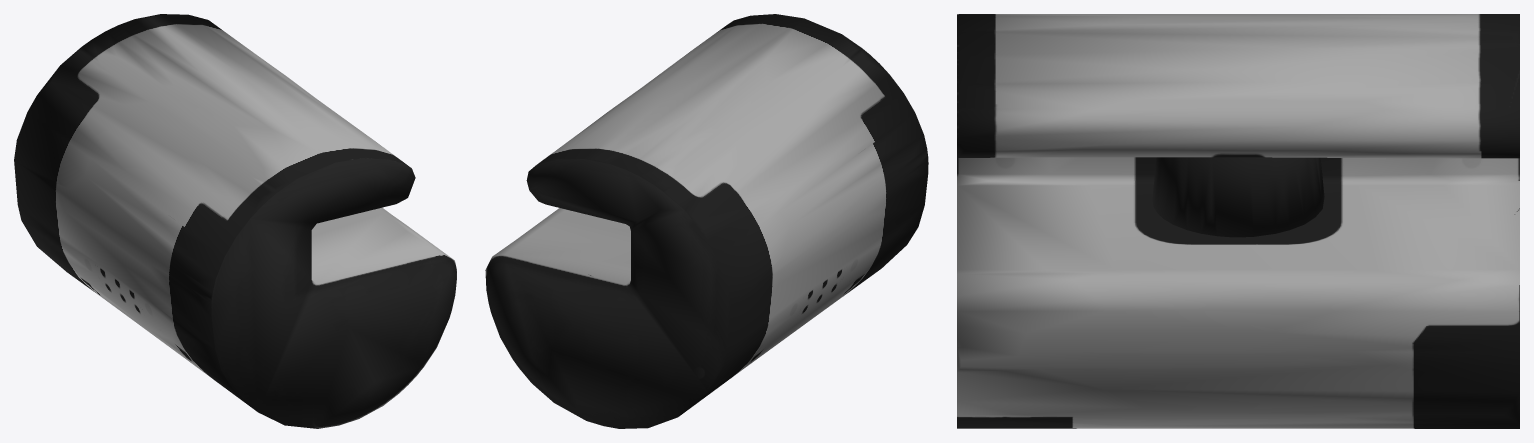
The model's file is tilting_hokuyo.dae.
The picture shows the model from 3 angles, left to right: view 1: azimuth 30°, elevation 25°; view 2: azimuth 150°, elevation 25°; view 3: azimuth 270°, elevation 25°; orthographic projection. The views are drawn at different scales.
Parts seen in each view (by area): view 1: tilting_hokuyo_link; view 2: tilting_hokuyo_link; view 3: tilting_hokuyo_link.
Part boxes in pixels (x1,y1,x2,y2): tilting_hokuyo_link: (14,14,456,428); tilting_hokuyo_link: (485,14,928,428); tilting_hokuyo_link: (957,14,1519,428).
Size of the model in its own units: 0.117 by 0.163 by 0.1202.
Materials: 1 (1 with a texture image).
